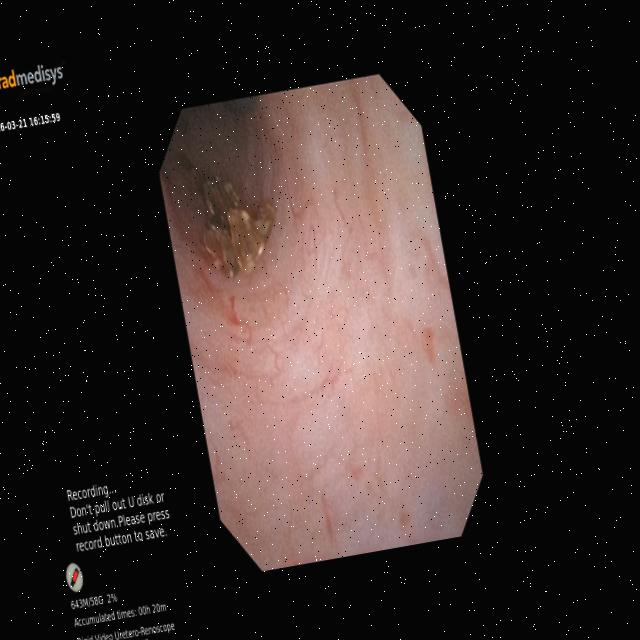stone-new: (202, 176, 274, 277)
